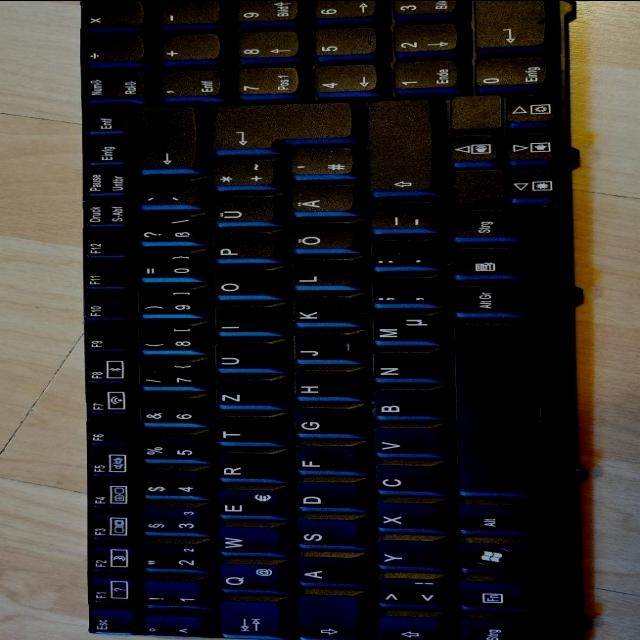0: (130, 252, 202, 282)
1: (136, 581, 204, 610)
2: (137, 543, 207, 573)
3: (135, 505, 207, 538)
4: (135, 470, 203, 500)
5: (134, 434, 204, 464)
6: (133, 396, 205, 427)
7: (132, 360, 202, 390)
8: (132, 325, 204, 353)
9: (130, 288, 204, 317)
a: (290, 557, 362, 588)
accent: (132, 179, 198, 208)
ae: (285, 185, 353, 215)
alt-left: (451, 504, 527, 536)
altgr-right: (446, 286, 524, 318)
b: (365, 390, 437, 422)
c: (368, 465, 440, 497)
caret: (138, 615, 204, 639)
comma: (365, 278, 437, 308)
d: (290, 482, 360, 512)
del: (130, 107, 198, 174)
e: (211, 489, 285, 521)
enter: (207, 101, 357, 155)
f: (289, 446, 359, 474)
g: (287, 409, 357, 439)
h: (287, 370, 359, 402)
hash: (284, 148, 354, 178)
i: (208, 306, 276, 335)
j: (287, 334, 357, 362)
k: (287, 297, 355, 325)
keyboard: (70, 0, 582, 640)
l: (286, 260, 354, 289)
less: (368, 578, 448, 610)
m: (366, 314, 438, 344)
minus: (364, 201, 434, 233)
n: (365, 352, 437, 384)
o: (206, 270, 276, 300)
oe: (285, 222, 355, 253)
p: (206, 232, 276, 264)
plus: (206, 160, 276, 190)
point: (364, 240, 434, 270)
q: (211, 564, 283, 595)
r: (210, 453, 280, 483)
s: (289, 519, 361, 551)
shift-left: (371, 616, 443, 640)
shift-lock: (290, 595, 359, 640)
shift-right: (362, 98, 434, 196)
space: (447, 323, 528, 498)
ss: (130, 216, 200, 246)
strg-left: (453, 618, 527, 640)
strg-right: (445, 210, 519, 242)
t: (210, 417, 278, 447)
tab: (211, 602, 281, 639)
u: (207, 342, 277, 372)
ue: (207, 195, 277, 225)
v: (366, 428, 438, 458)
w: (211, 526, 281, 557)
x: (368, 503, 440, 533)
y: (370, 540, 440, 571)
z: (209, 379, 277, 409)
